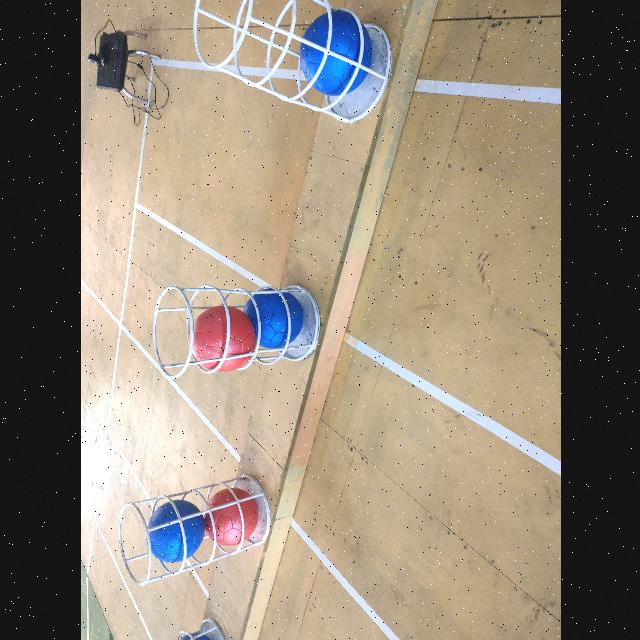B: (298, 10, 370, 96), (146, 500, 204, 562), (256, 288, 302, 350), (170, 634, 216, 640)
R: (190, 306, 256, 372), (209, 486, 257, 546)
